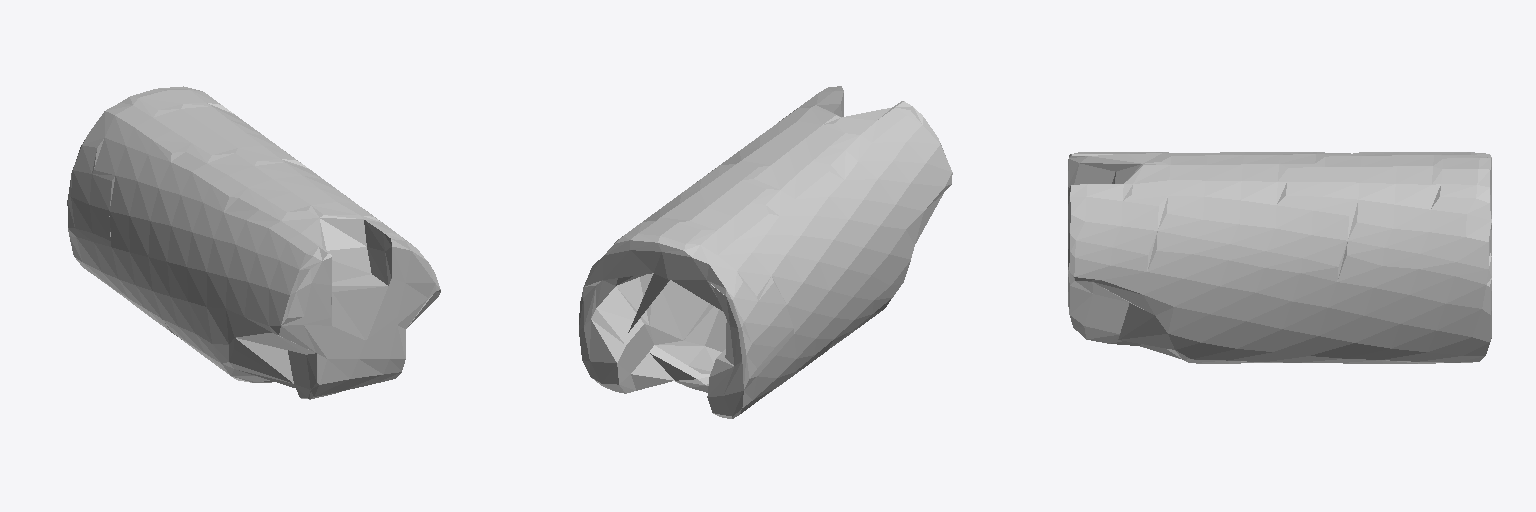
File: sim_ecub_1-0_r_hand_ring_1.obj
3 views of the same model, side by side, from view 1: azimuth 30°, elevation 25°; view 2: azimuth 150°, elevation 25°; view 3: azimuth 270°, elevation 25° (orthographic).
Bounding box in the file's own units: 16.99 × 17.24 × 36.5.